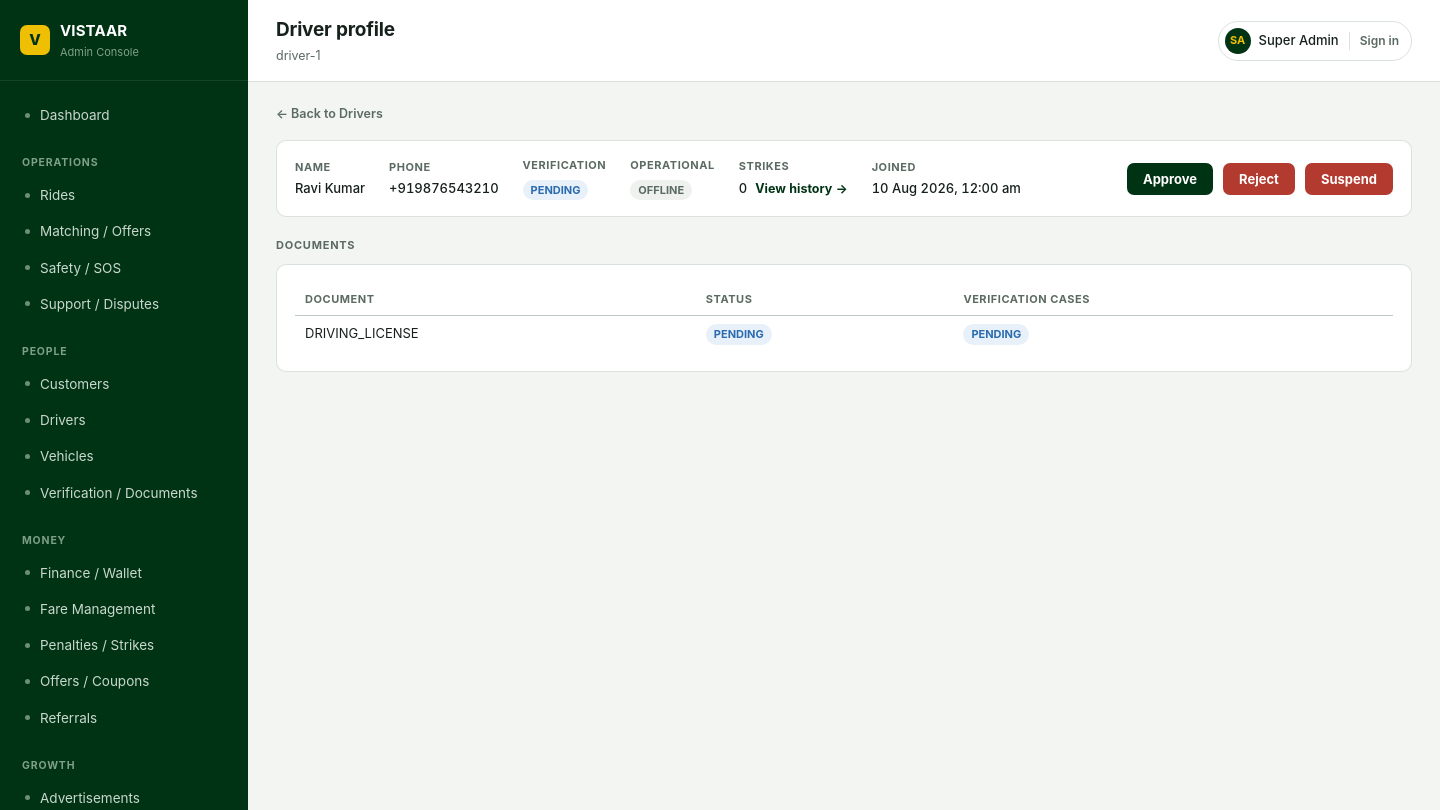
DriverDetailPage › shows Approve/Reject only while verification is PENDING, and approves
Click the button "Approve" at (1170, 178), box [1127,162,1213,194]
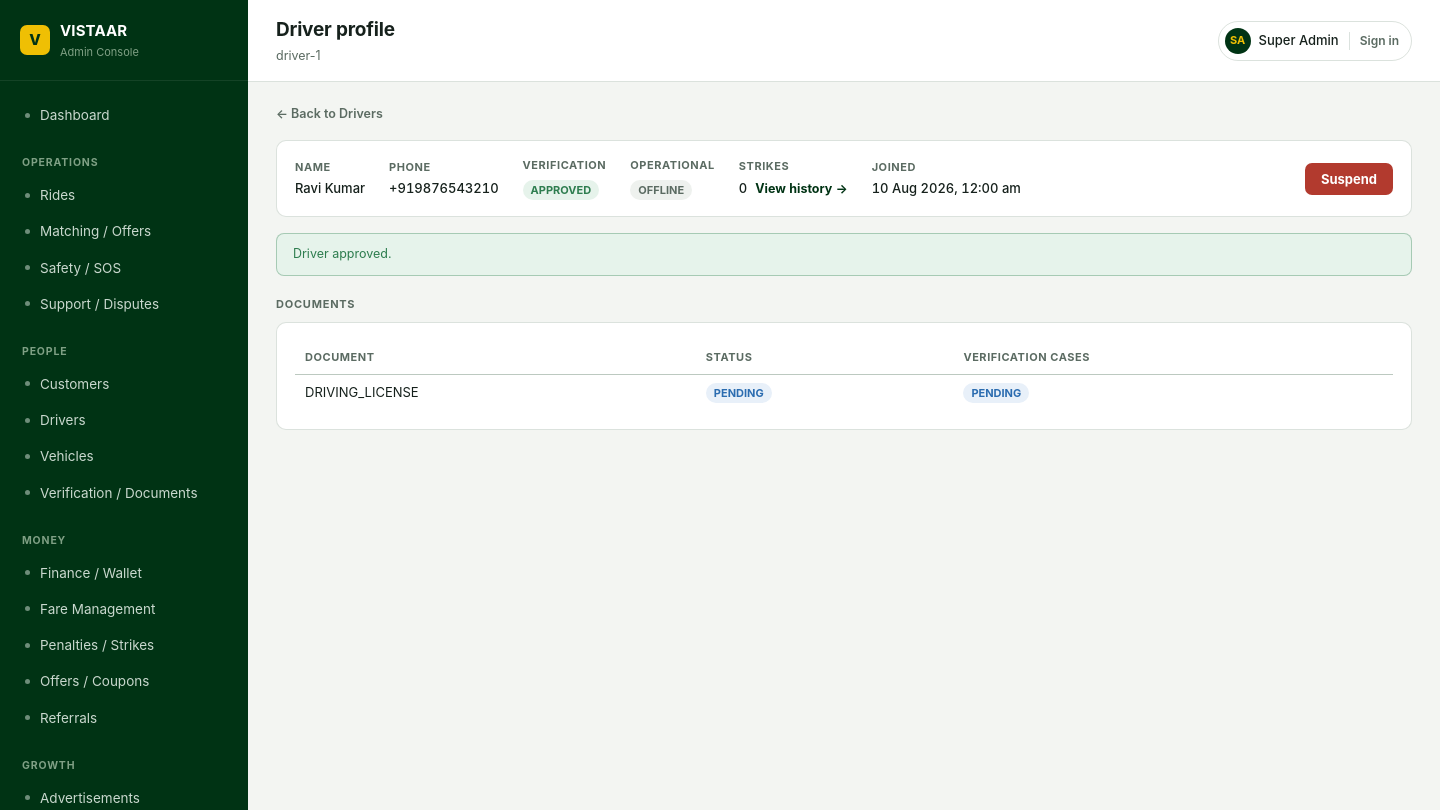
Now the text "Driver approved." is shown, box [276,233,1412,276]
